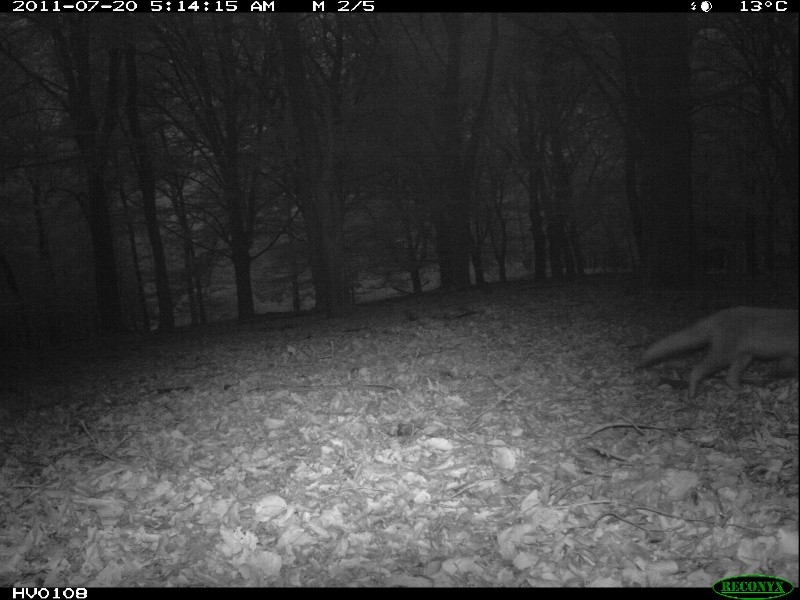fox: (641, 304, 800, 400)
